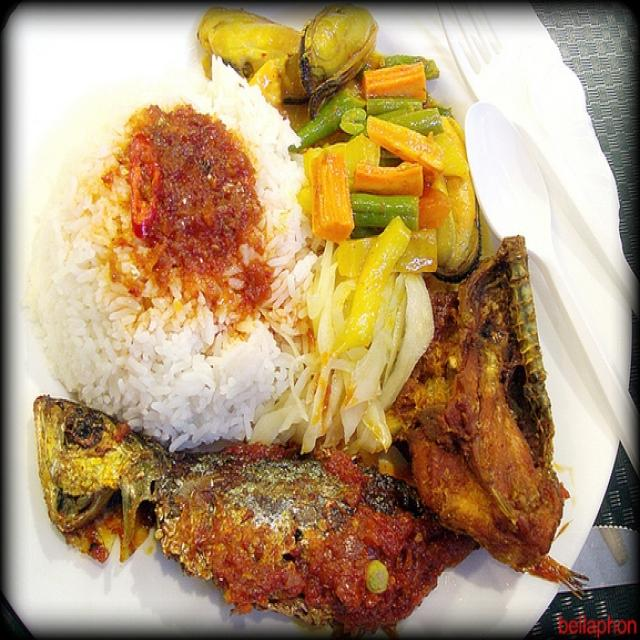鸡肉料理 含炸鸡: (40, 28, 589, 605)
